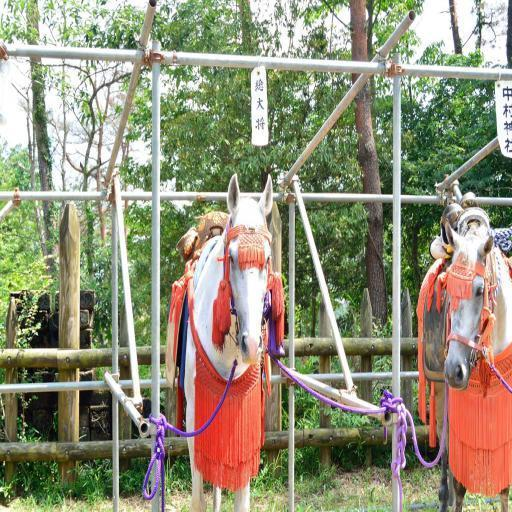horse: (167, 174, 280, 512), (414, 208, 512, 512)
